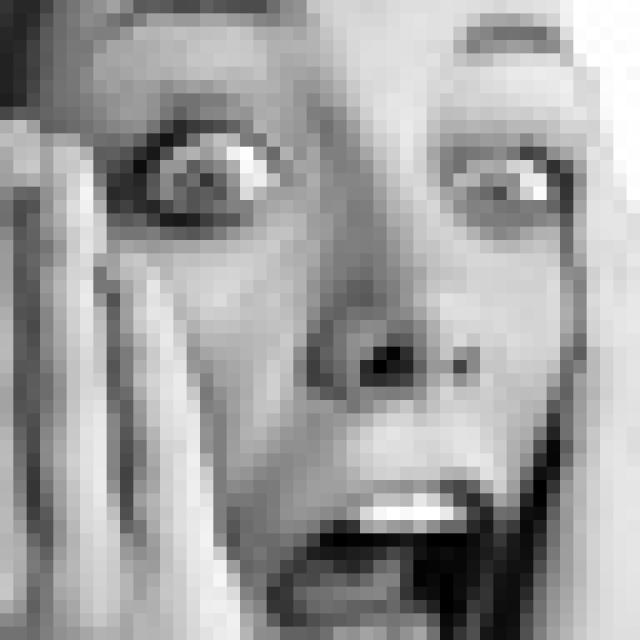fear: (107, 0, 576, 640)
